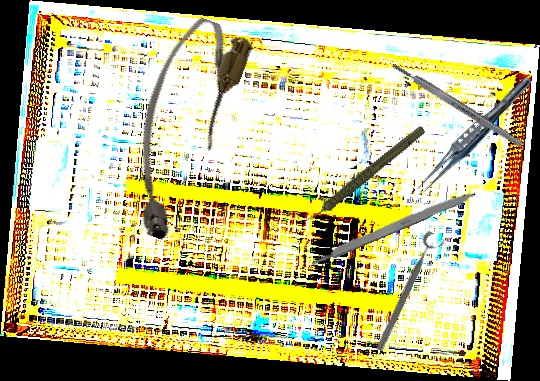Cannula: (103, 10, 257, 246)
Fixation Ring: (372, 229, 447, 357)
Handpiece: (288, 123, 439, 225)
Scalpel Handle: (308, 186, 478, 268), (390, 60, 525, 150)
Tissue Forceps: (412, 69, 536, 201)
